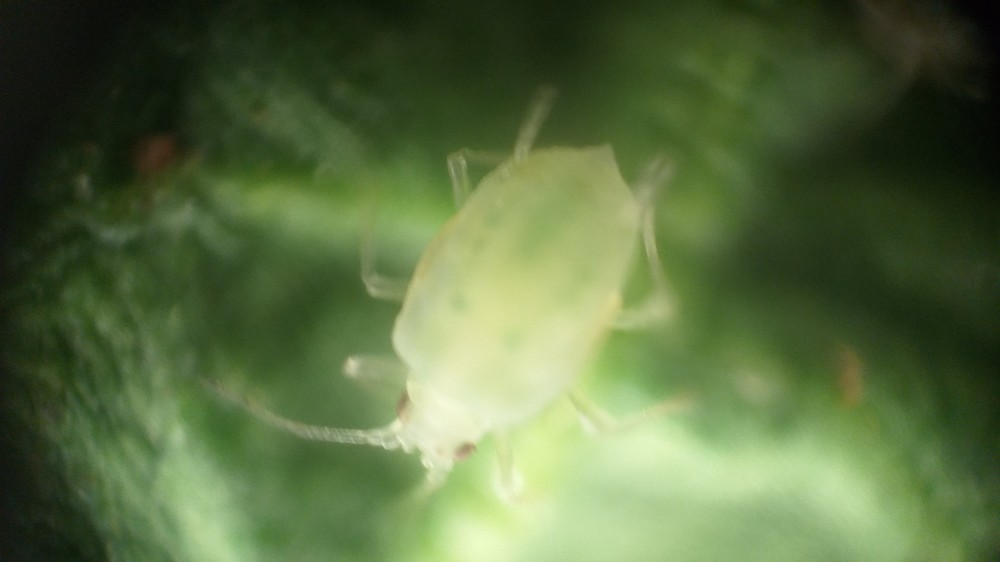Pulgon: (224, 64, 772, 551)
